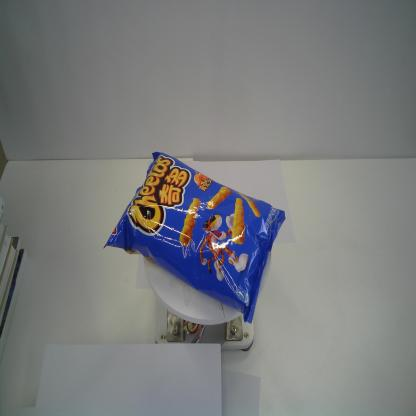Puffed Food: (102, 150, 286, 325)
